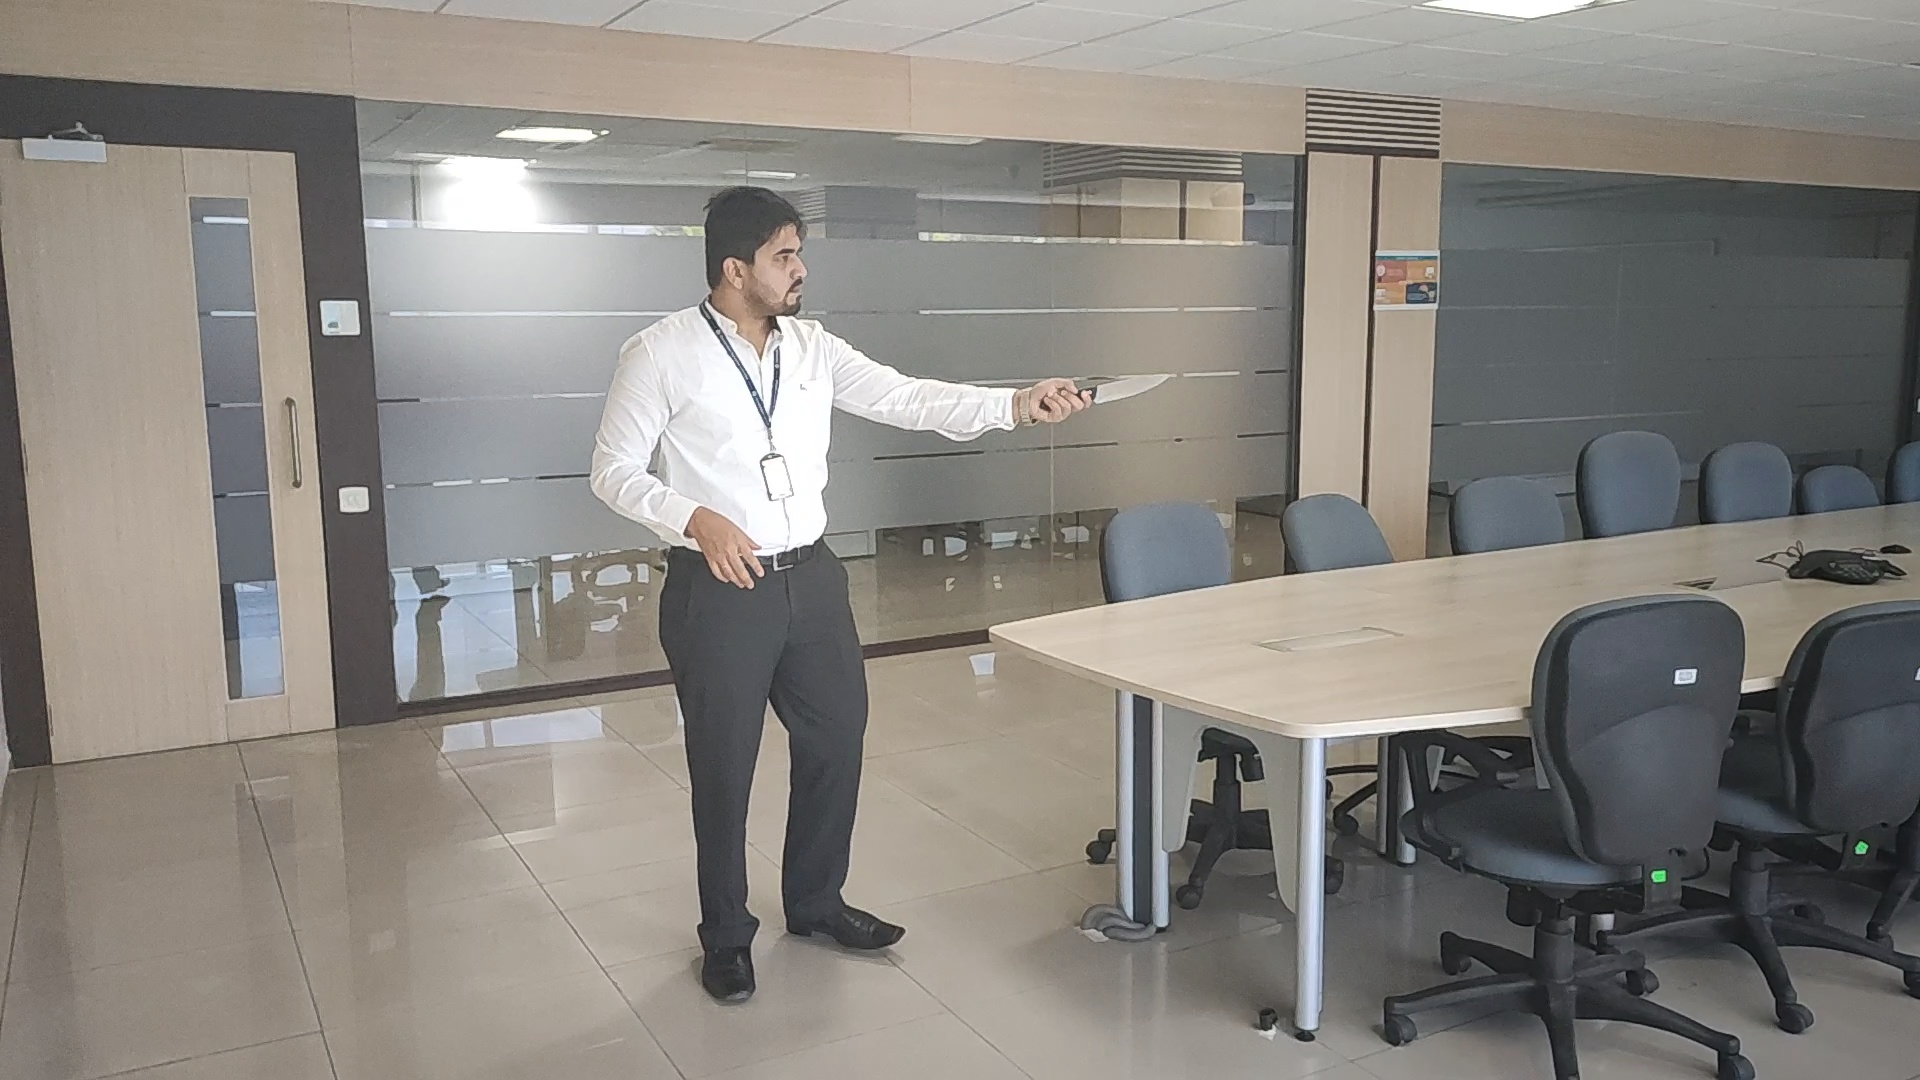knife: (1093, 373, 1170, 406)
